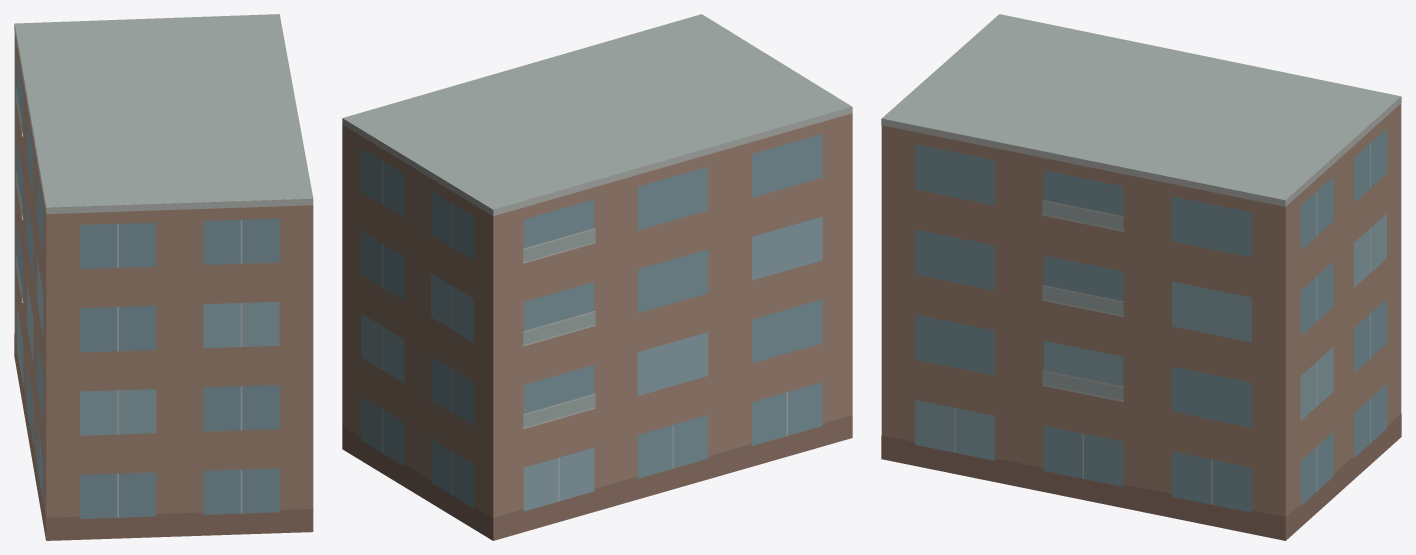
Rendered from survey-upis-32950967.glb.
The picture shows the model from 3 angles, left to right: view 1: azimuth 30°, elevation 25°; view 2: azimuth 150°, elevation 25°; view 3: azimuth 270°, elevation 25°; orthographic projection. The views are drawn at different scales.
Parts seen in each view (by area): view 1: survey-upis-32950967.tmp; view 2: survey-upis-32950967.tmp; view 3: survey-upis-32950967.tmp.
Part boxes in pixels (x1,y1,x2,y2): survey-upis-32950967.tmp: (14,14,313,540); survey-upis-32950967.tmp: (342,14,852,540); survey-upis-32950967.tmp: (881,14,1401,540).
Bounding box in the file's own units: 14.67 × 12.5 × 17.3.
